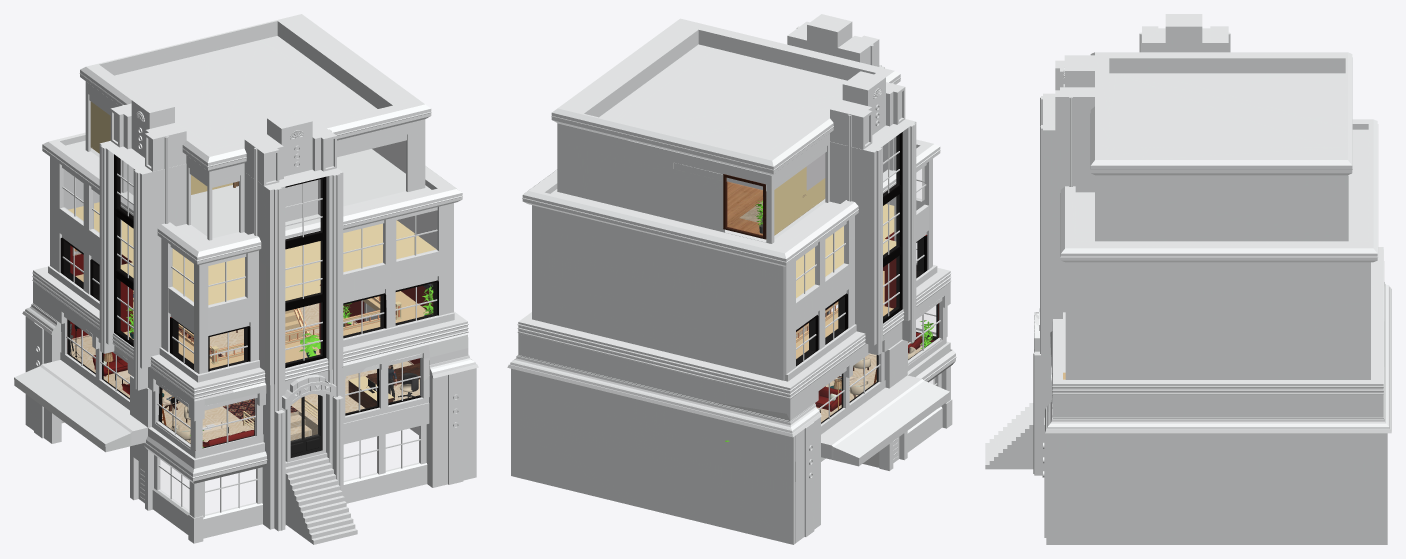
The model's file is lobby-version13-transformed.glb.
3 renders of one model, left to right at view 1: azimuth 30°, elevation 25°; view 2: azimuth 150°, elevation 25°; view 3: azimuth 270°, elevation 25°, orthographic. The views are drawn at different scales.
Visible parts, largest first — view 1: top_layer.002, lobby_walkable_paths, Door, lobby_all_static_objects.031; view 2: top_layer.002, Structure.001, lobby_walkable_paths, Cube.114, Door; view 3: top_layer.002.
Boxes of the visible parts, left/top/right/bottom form: top_layer.002: left=14, top=14, right=478, bottom=544; lobby_walkable_paths: left=70, top=303, right=419, bottom=443; Door: left=70, top=321, right=418, bottom=457; lobby_all_static_objects.031: left=162, top=330, right=419, bottom=440; top_layer.002: left=507, top=14, right=956, bottom=544; Structure.001: left=727, top=181, right=762, bottom=235; lobby_walkable_paths: left=796, top=325, right=922, bottom=422; Cube.114: left=723, top=174, right=766, bottom=239; Door: left=817, top=167, right=935, bottom=423; top_layer.002: left=985, top=14, right=1391, bottom=544.
Size of what is drawn, in the model's own units: 17.41 by 19.84 by 18.42.
70 materials, 69 textured.
